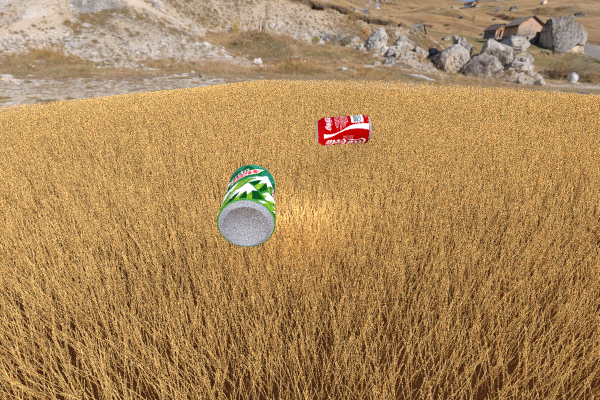Plastic Bottle: (216, 164, 275, 247), (21, 155, 102, 206), (315, 114, 371, 145)
